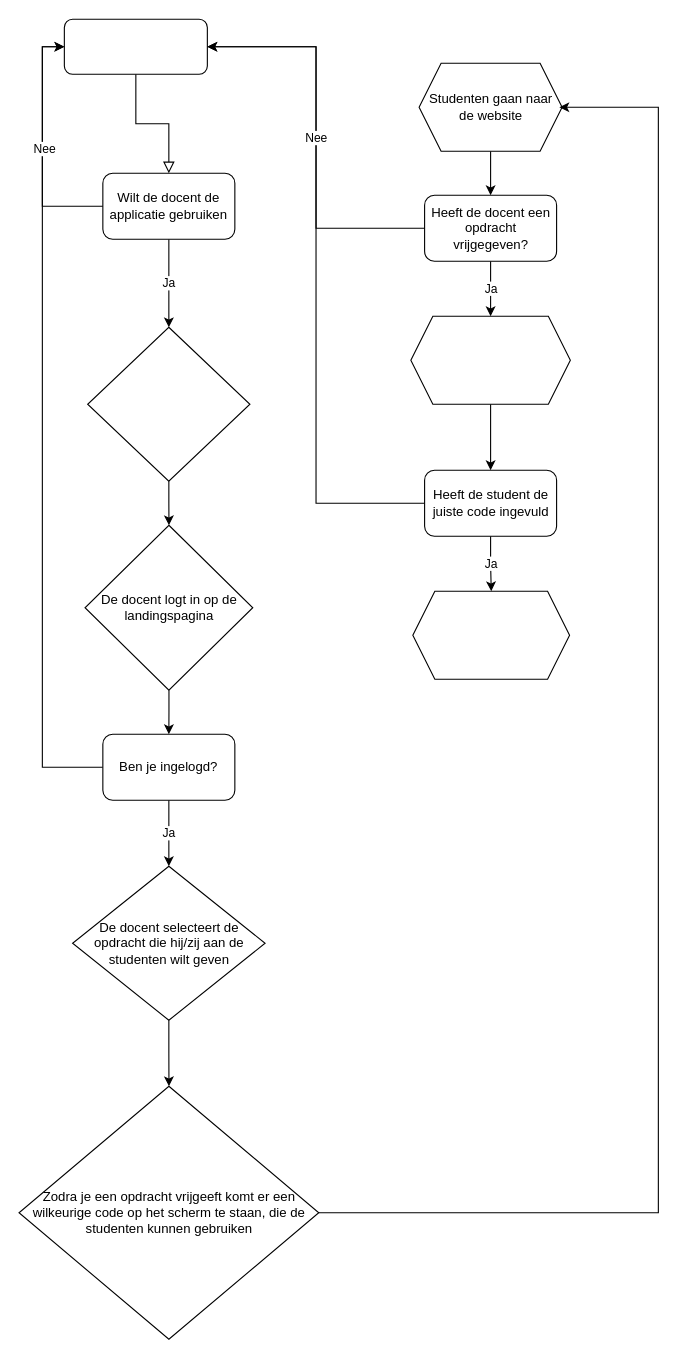
Image size: 688x1359. Some labels were removed from this diagram. The shapes that lost their labels are listed below. From the top down, each one's centre as x and y in pixels, then its label:
At point (135, 46): "onbevoegde mensen hebben geen toegang tot de opdrachten".
At point (490, 359): "De studenten vullen de code in die de docent op zijn scherm heeft".
At point (168, 403): "Ga naar de website, hierdoor kom je op de landings pagina".
At point (491, 634): "De studenten krijgen toegang tot de door de docent vrijgegeven opdracht".
